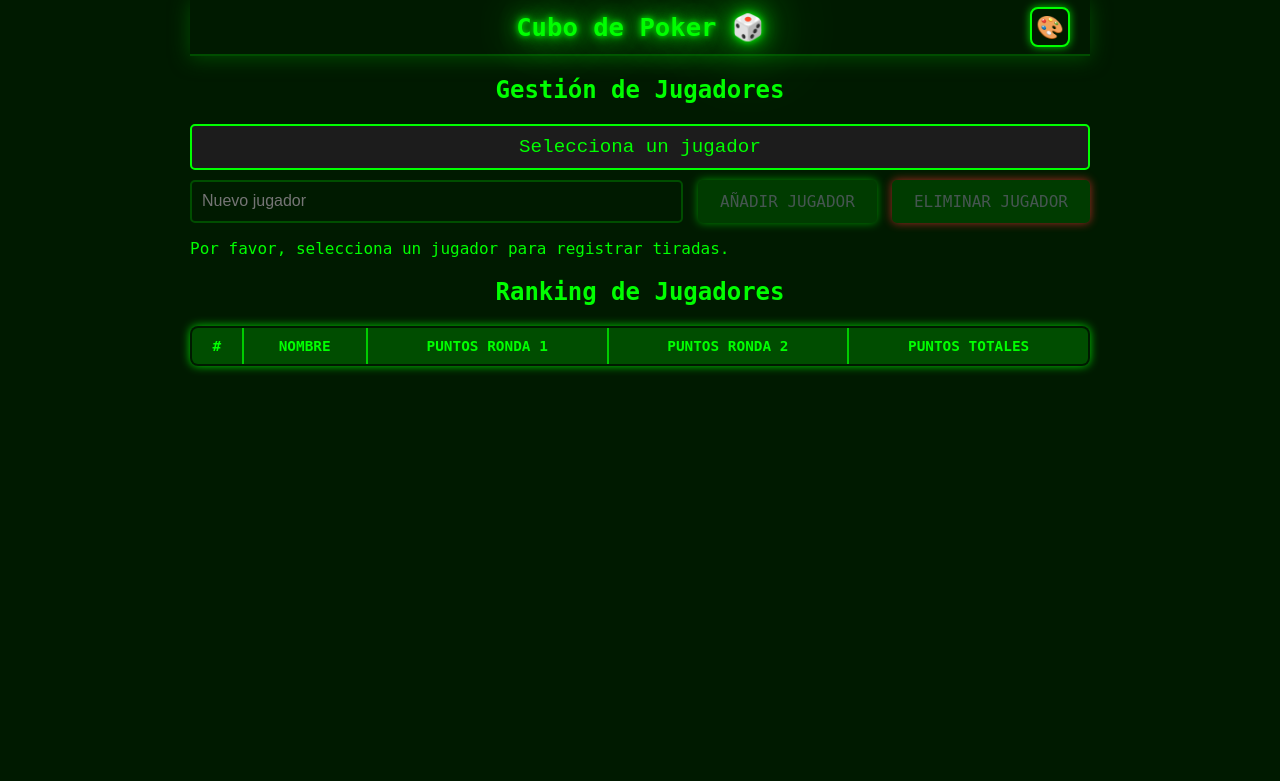
Test: Juego completo › Actualiza la puntuación del jugador correctamente
In the field with placeholder "Nuevo jugador": point(436, 201) [190,180,683,223], type "Jugador C"
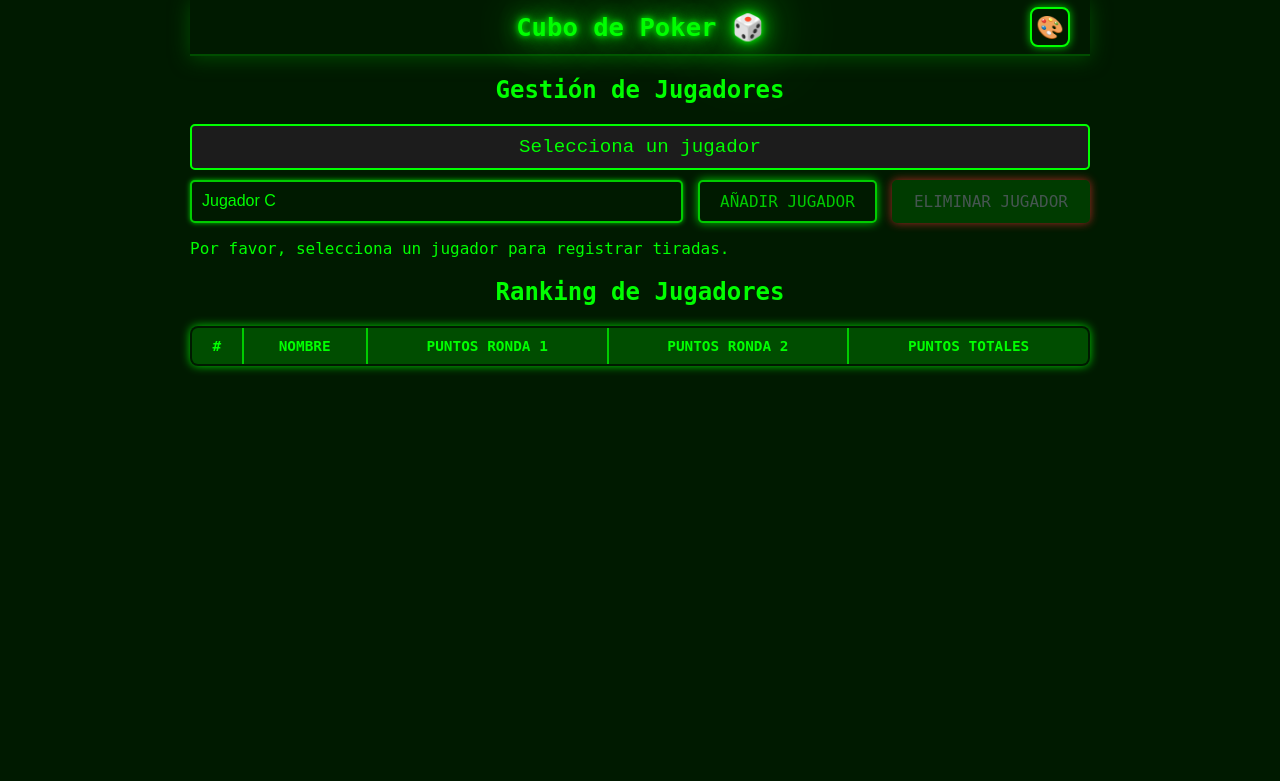
Click the button "Añadir jugador": point(787, 201) [698,180,877,223]
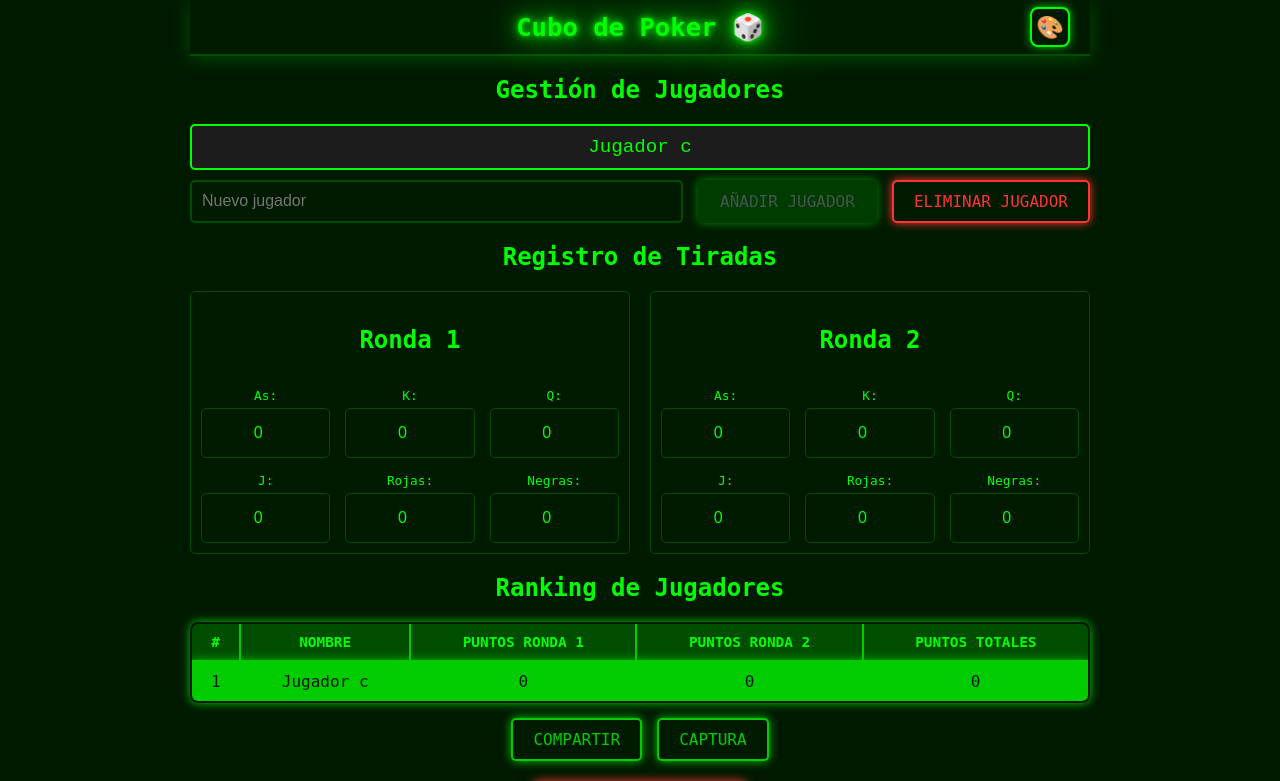
Actualizar la puntuación del jugador
In the 1st number field labelled "As:": point(266, 433) [201,408,330,458], type "5"
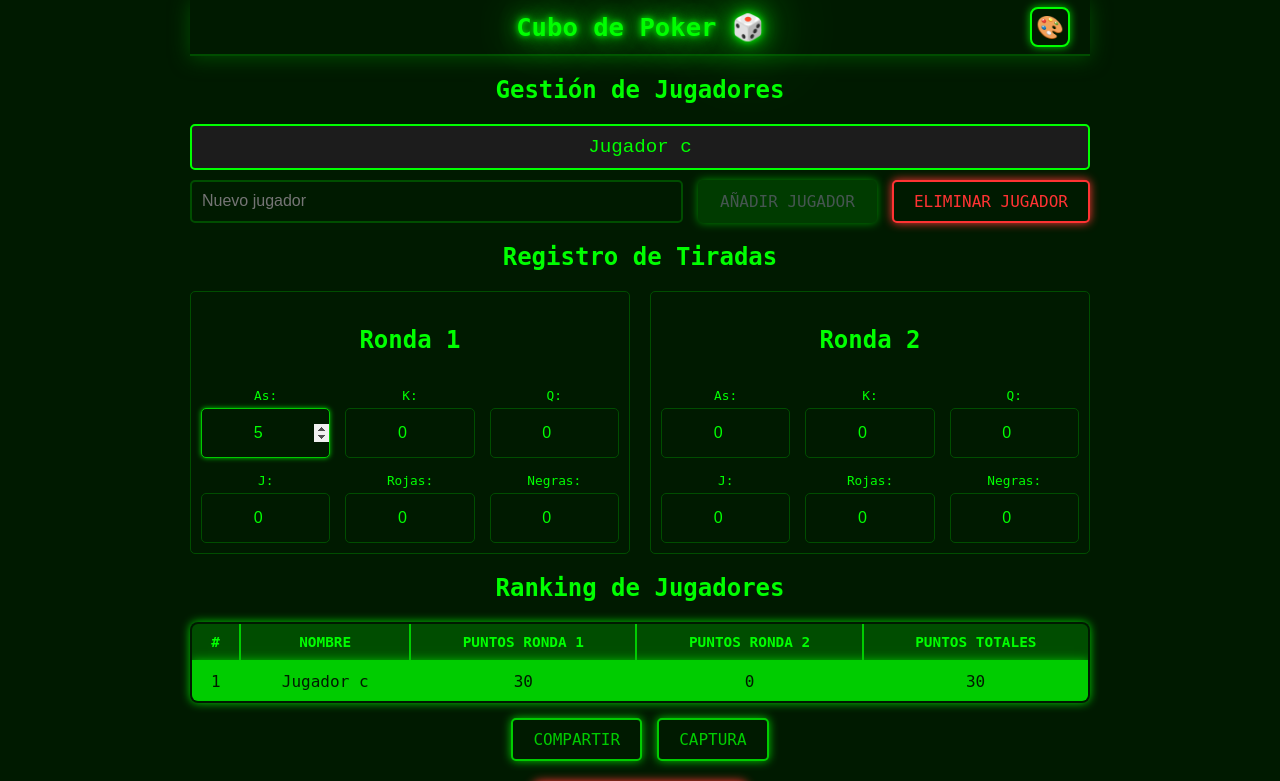
Añade puntuación a ronda 2
In the 2nd number field labelled "As:": point(726, 433) [661,408,790,458], type "3"
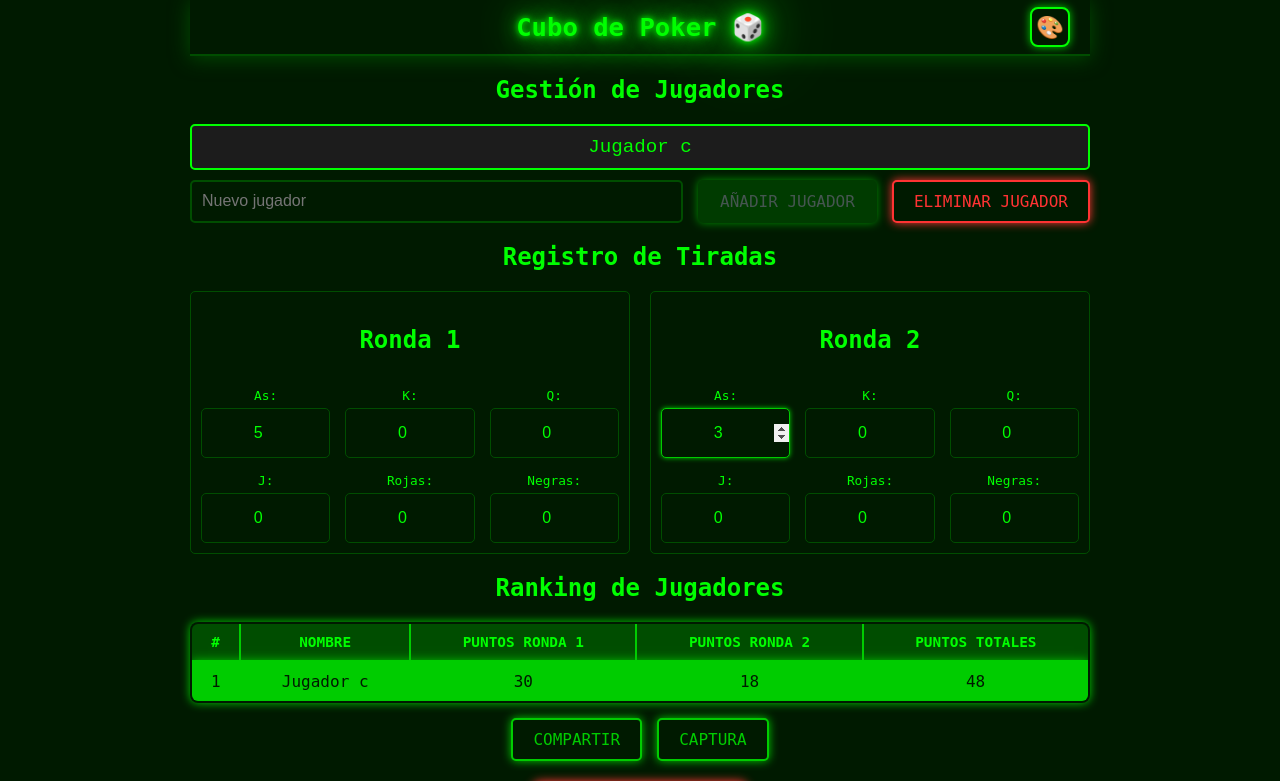
Check: the text "18" is shown, box [636,660,863,702]
Check: the text "30" reads "48", box [966,672,985,690]
